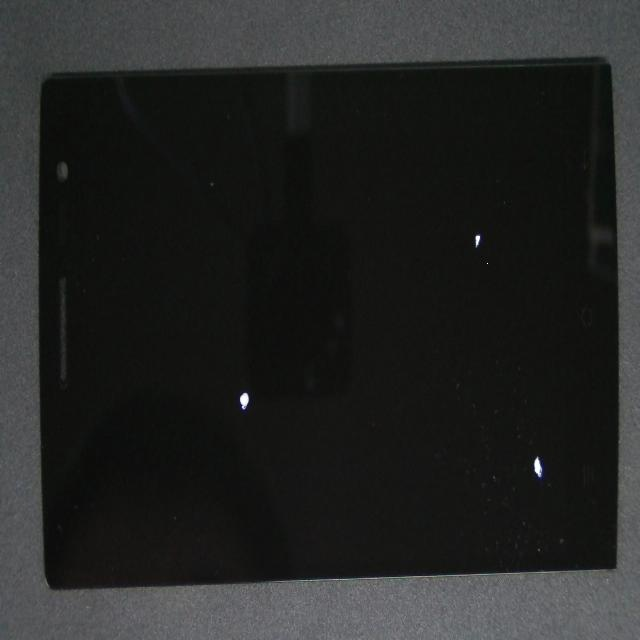stain: (233, 211, 640, 640), (96, 203, 354, 640), (222, 133, 640, 400)
